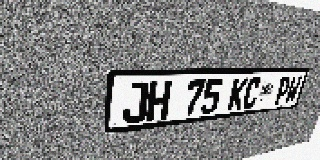5: (200, 79, 223, 115)
7: (182, 80, 206, 117)
C: (241, 78, 262, 109)
H: (146, 81, 172, 122)
J: (122, 82, 149, 125)
K: (227, 78, 249, 111)
P: (273, 76, 292, 105)
W: (284, 76, 303, 104)
